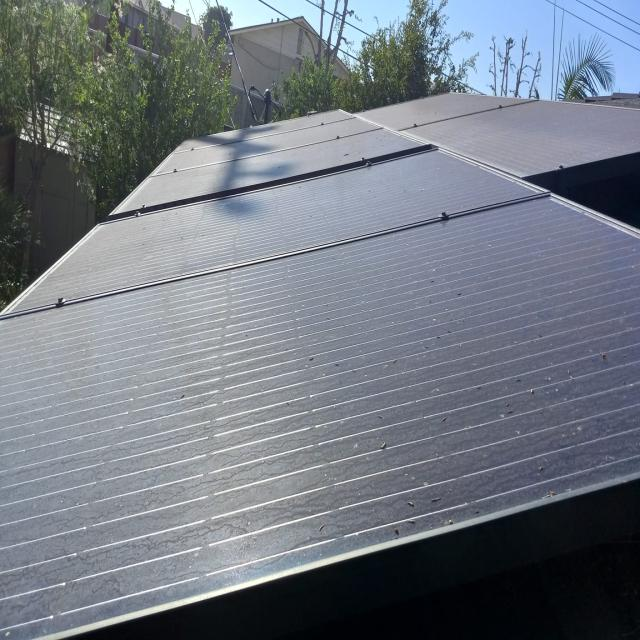dust-solar-panel: (0, 91, 640, 640)
